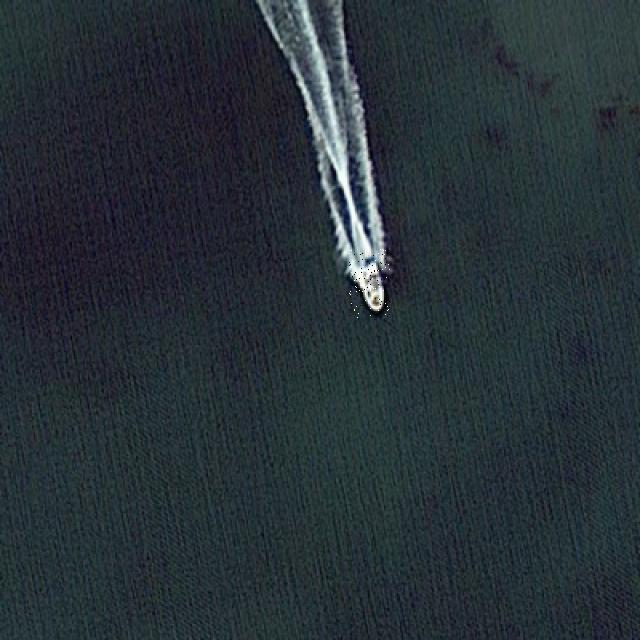boat: (349, 249, 390, 318)
